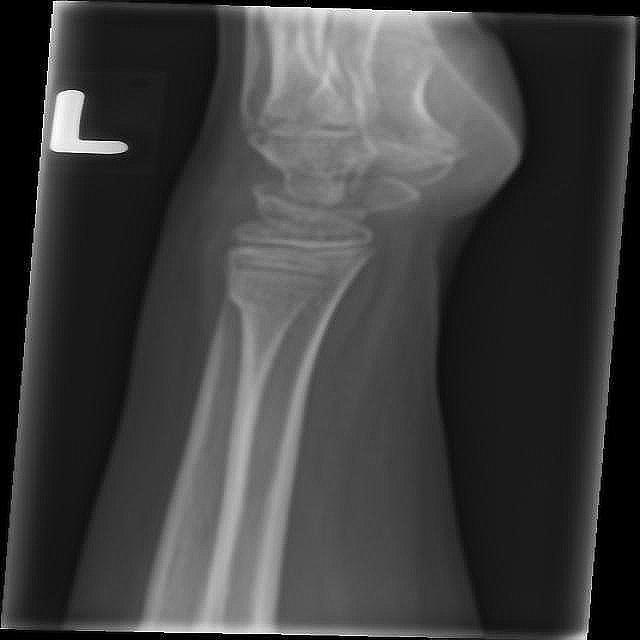bone: (223, 280, 344, 318)
